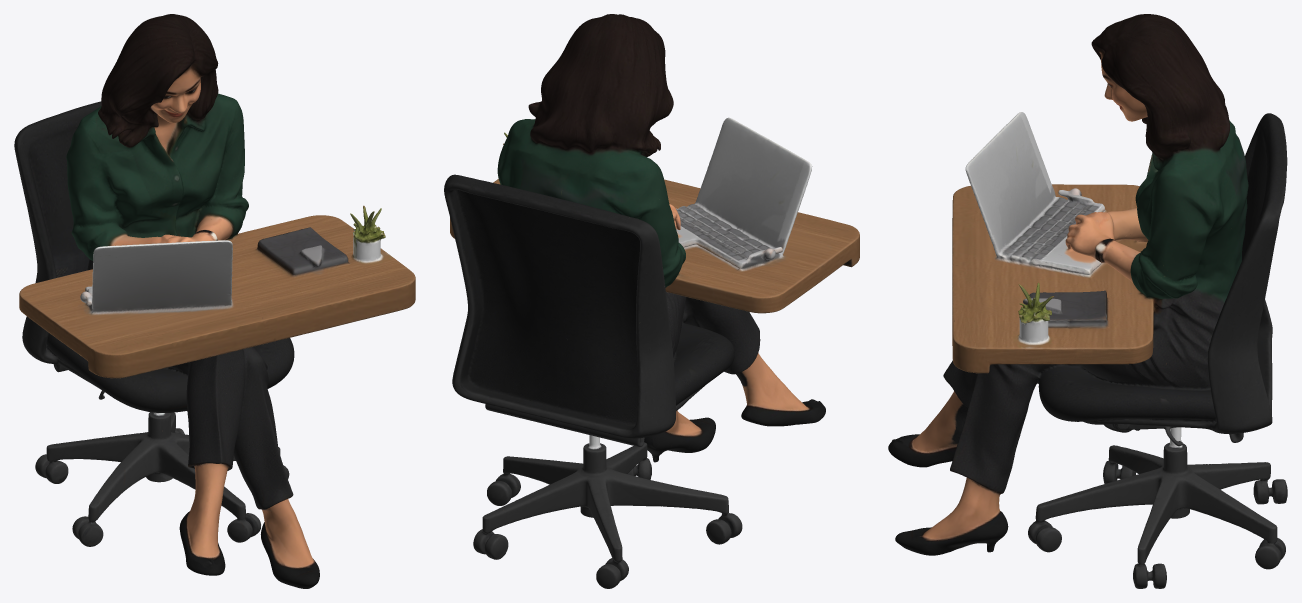
The model's file is commercial_pose1.glb.
The picture shows the model from 3 angles, left to right: view 1: azimuth 30°, elevation 25°; view 2: azimuth 150°, elevation 25°; view 3: azimuth 270°, elevation 25°; orthographic projection. The views are drawn at different scales.
Size of the model in its own units: 1.29 by 1.9 by 1.33.
Materials: 1 (1 with a texture image).
